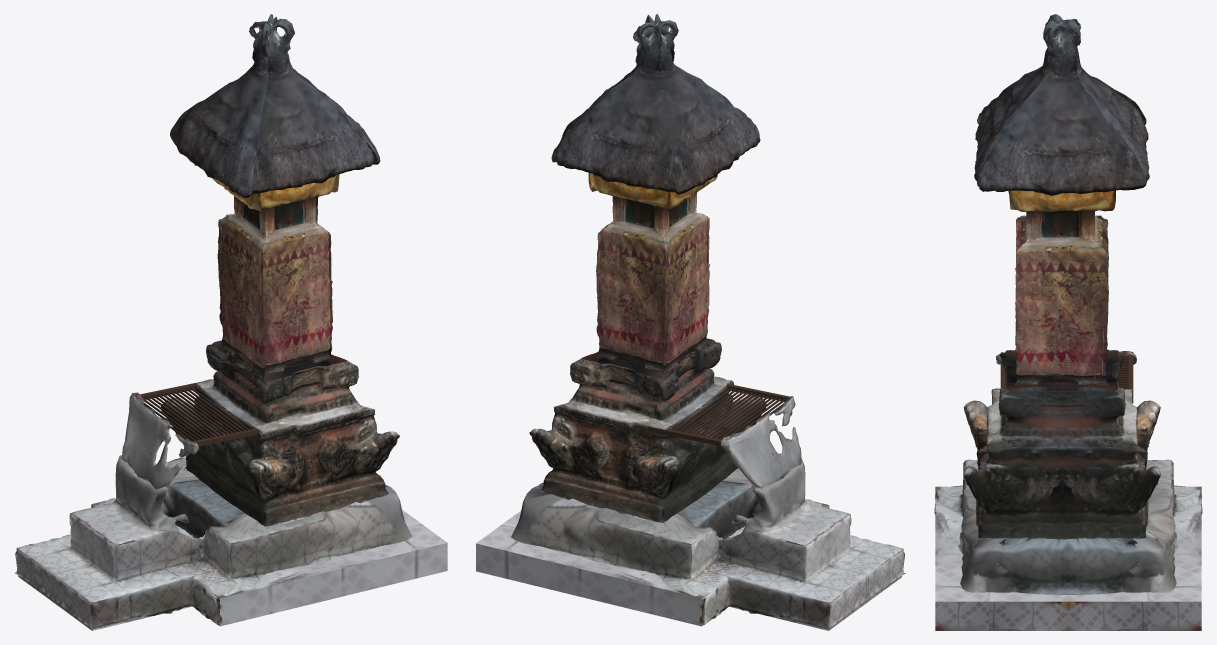
Rendered from Ratu Anom.fbx.
3 renders of one model, left to right at view 1: azimuth 30°, elevation 25°; view 2: azimuth 150°, elevation 25°; view 3: azimuth 270°, elevation 25°, orthographic. The views are drawn at different scales.
Visible parts, largest first — view 1: Ratu Anom; view 2: Ratu Anom; view 3: Ratu Anom.
Boxes of the visible parts, x1,y1,x2,y2 form: Ratu Anom: (15,14,447,630); Ratu Anom: (476,14,905,630); Ratu Anom: (934,14,1202,630).
Bounding box in the file's own units: 93.37 × 144 × 63.37.
1 material, 1 textured.
